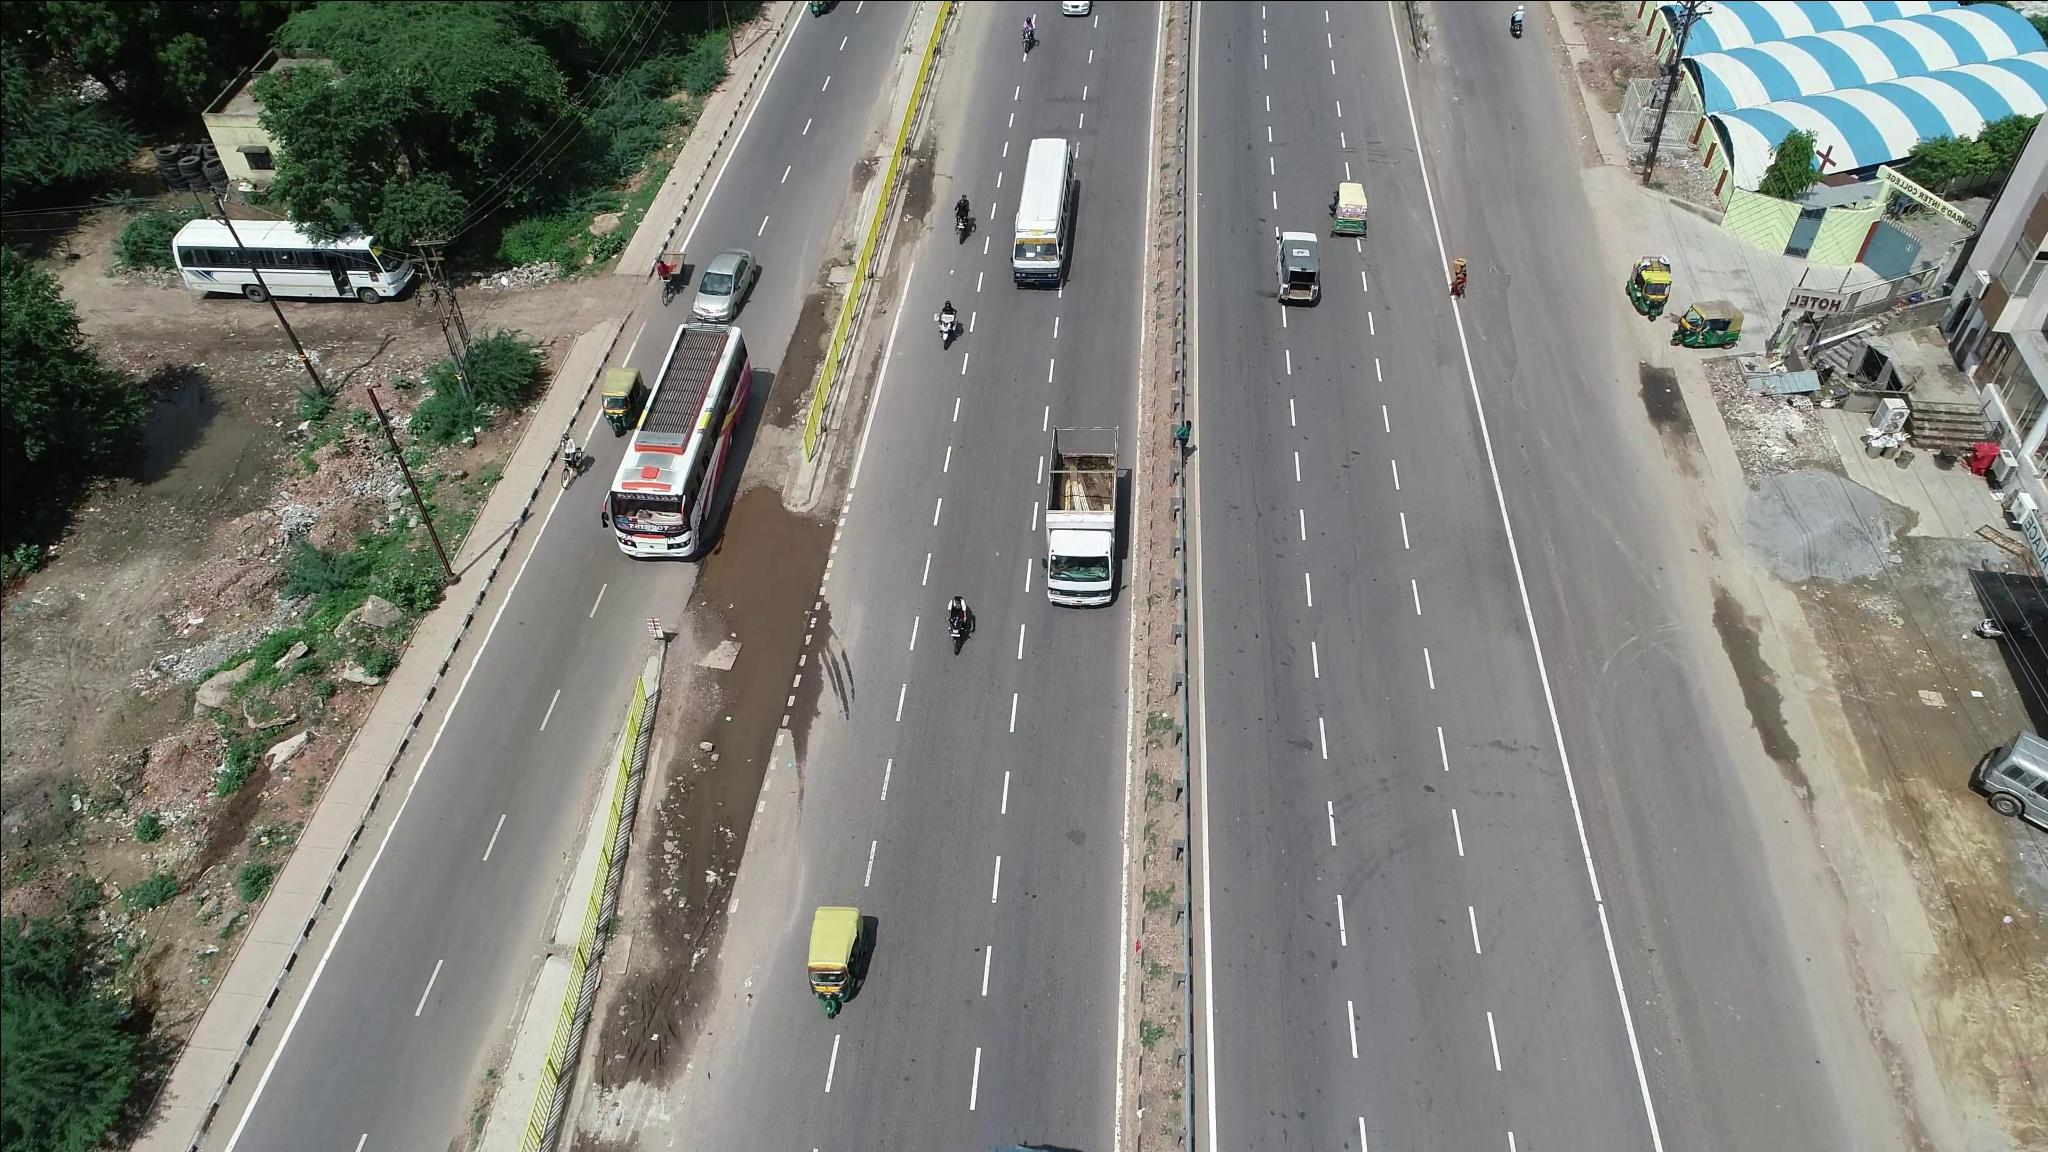Waterlogging: (708, 506, 854, 799)
